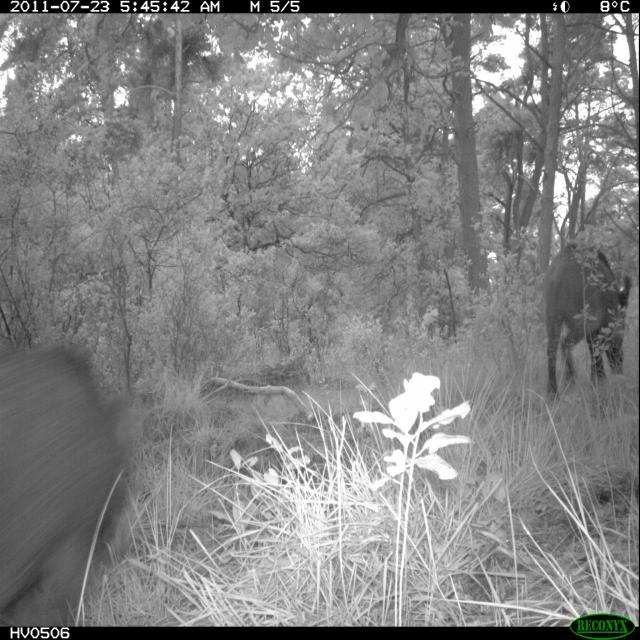boar: (0, 296, 176, 624), (539, 202, 640, 414)
